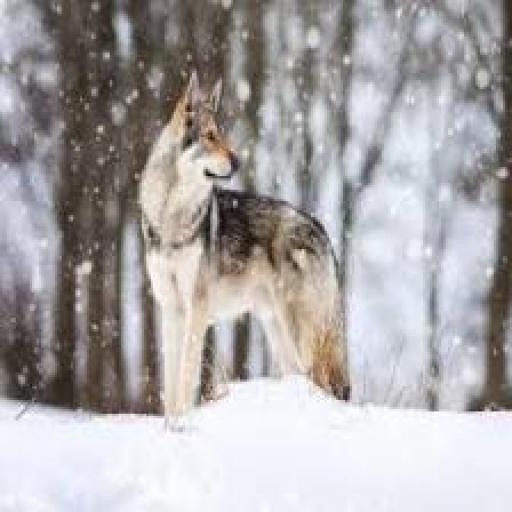wolf: (121, 64, 378, 445)
